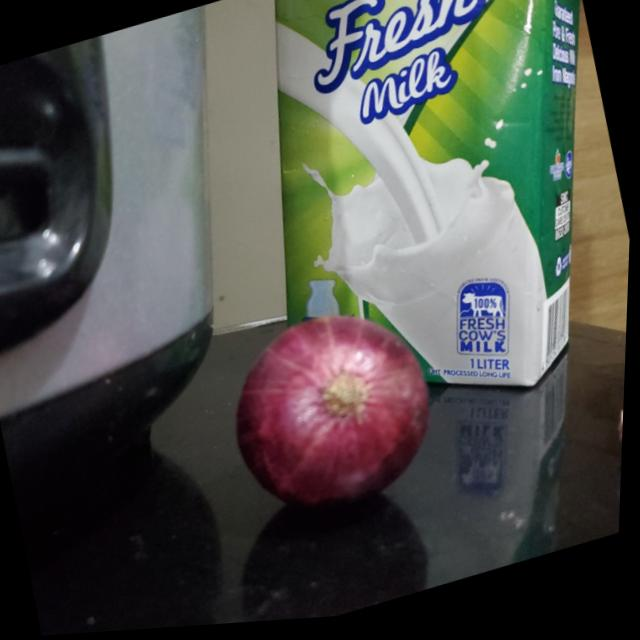milk: (206, 0, 640, 464)
onion: (219, 301, 451, 535), (606, 344, 629, 483)
